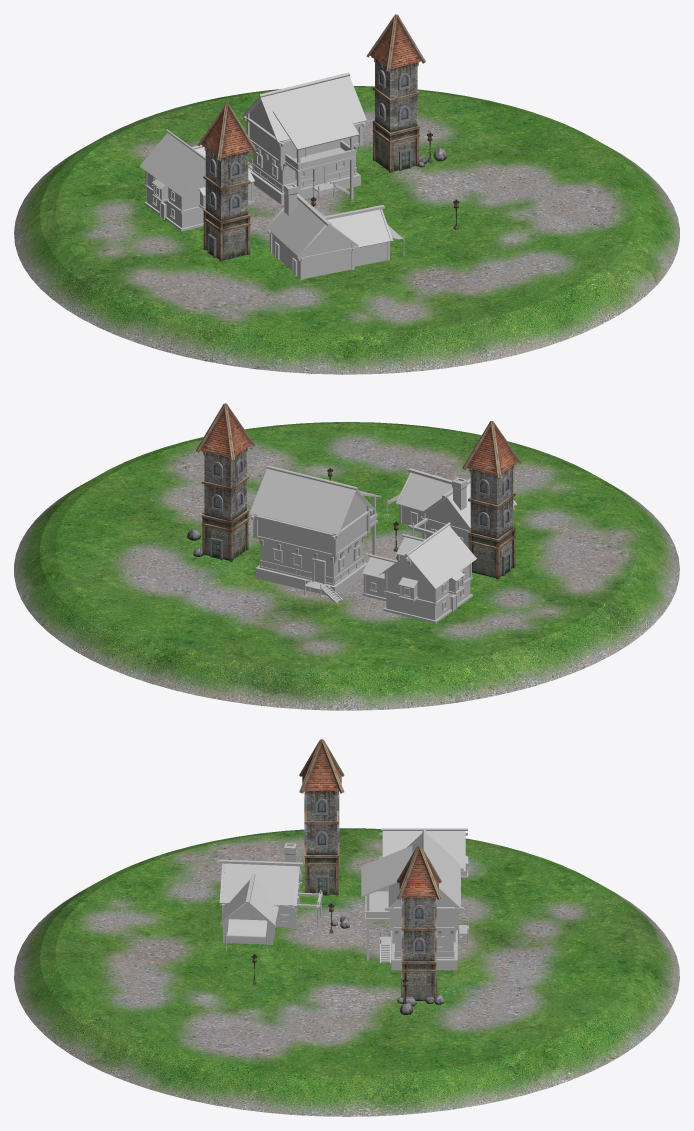
Rendered from village.FBX.
3 views of the same model, one above another, from view 1: azimuth 30°, elevation 25°; view 2: azimuth 150°, elevation 25°; view 3: azimuth 270°, elevation 25° (orthographic).
Parts seen in each view (by area): view 1: Line002, House 2, House 3, Tower001, Tower, House1; view 2: Line002, House 2, House1, Tower, Tower001, House 3; view 3: Line002, House 2, House 3, Tower001, Tower, House1.
Part boxes in pixels (bbox=[...]): Line002: bbox=[14, 86, 679, 374]; House 2: bbox=[242, 72, 366, 204]; House 3: bbox=[265, 183, 404, 279]; Tower001: bbox=[197, 103, 256, 261]; Tower: bbox=[366, 14, 425, 172]; House1: bbox=[140, 129, 254, 231]; Line002: bbox=[14, 422, 679, 710]; House 2: bbox=[249, 465, 381, 603]; House1: bbox=[362, 522, 476, 623]; Tower: bbox=[196, 403, 254, 561]; Tower001: bbox=[462, 421, 521, 579]; House 3: bbox=[386, 468, 516, 547]; Line002: bbox=[14, 828, 679, 1116]; House 2: bbox=[361, 829, 468, 970]; House 3: bbox=[219, 843, 322, 952]; Tower001: bbox=[299, 739, 344, 895]; Tower: bbox=[396, 845, 441, 1000]; House1: bbox=[379, 828, 468, 906].
Size of the model in its own units: 344 by 97.74 by 344.
